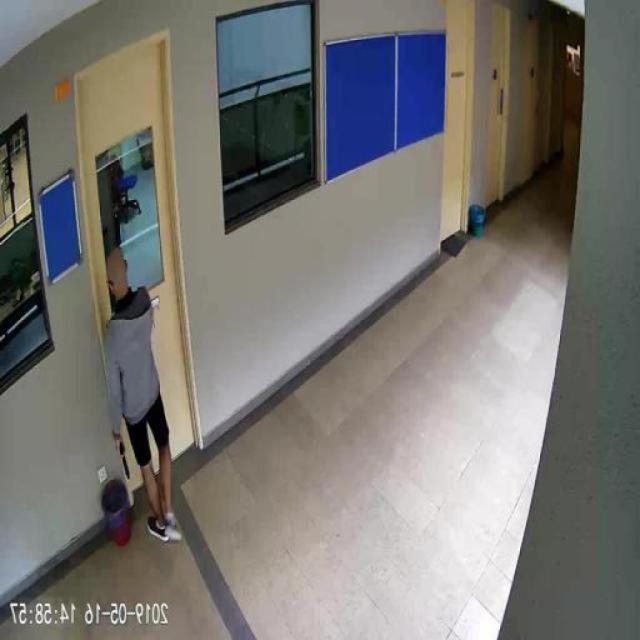pistol: (118, 434, 132, 478)
